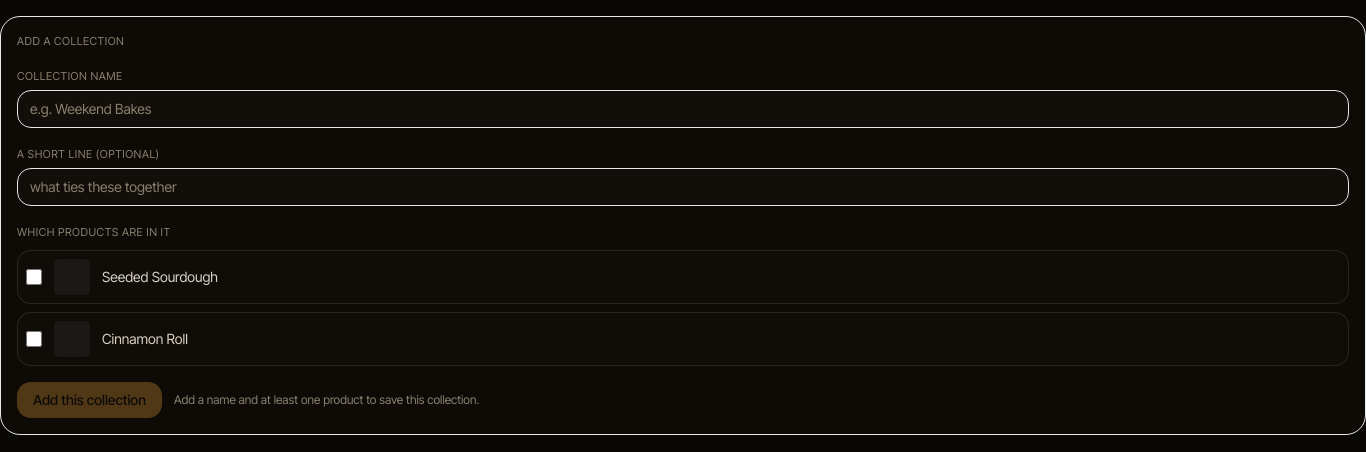
Test case: CollectionsEditor › keeps Add disabled until a name and at least one product are chosen
expect the button "Add this collection" is disabled: met, box [17,382,162,418]
expect the text "Add a name and at least one product to save this collection." is shown: met, box [174,392,479,408]
Type "Weekend Bakes" into the field labelled "Collection name".
click(683, 108); type("Weekend Bakes")  # box [17,90,1349,128]
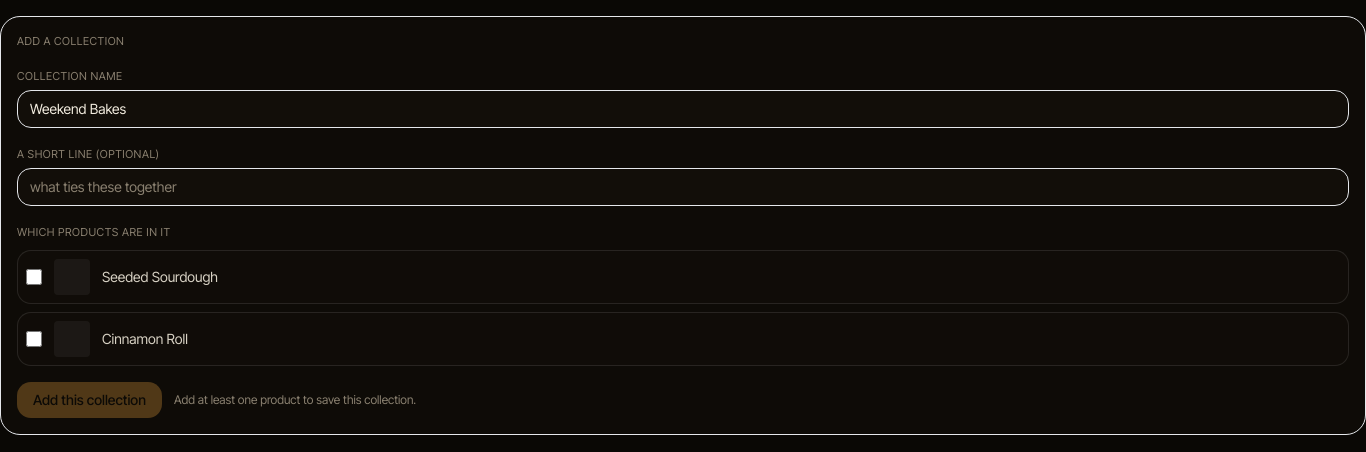
expect the button "Add this collection" is disabled: met, box [17,382,162,418]
Click the checkbox labelled "Cinnamon Roll".
click(34, 338)  # box [26,330,42,346]
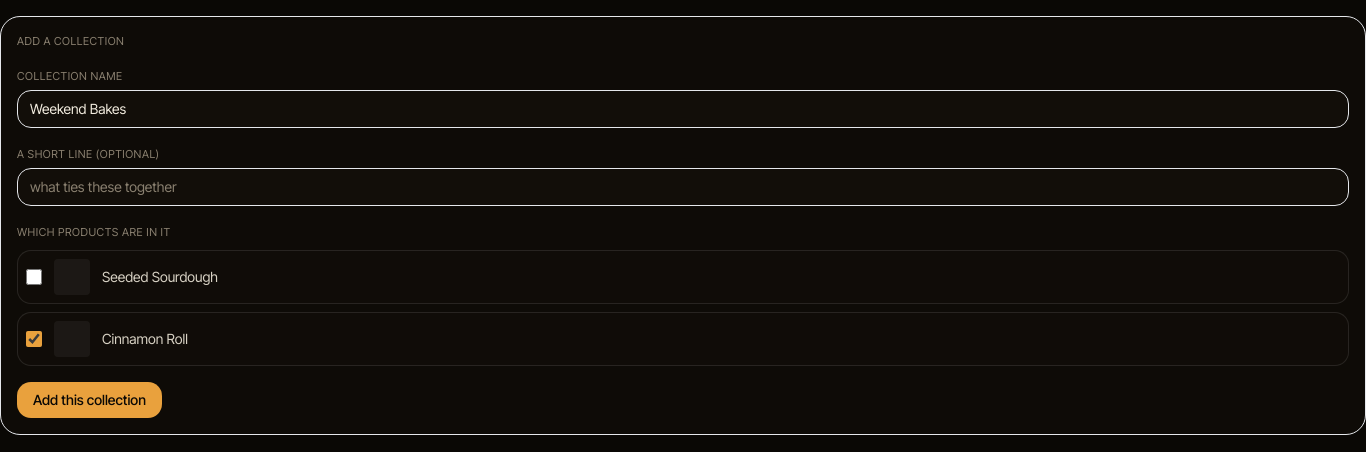
expect the button "Add this collection" is enabled: met, box [17,382,162,418]
